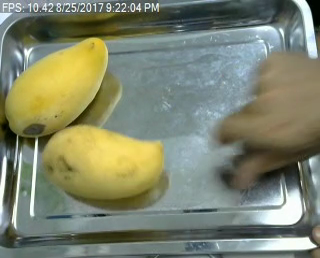Mango: (3, 37, 109, 138), (42, 122, 166, 199)
